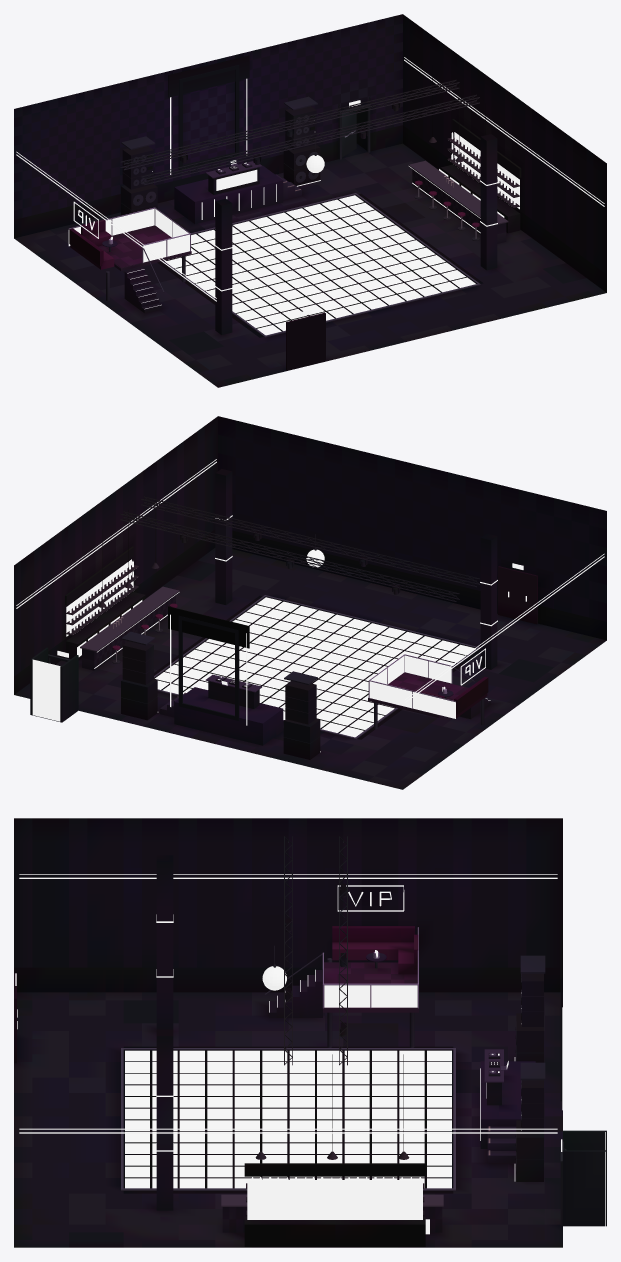
File: balada.glb
3 views of the same model, one above another, from view 1: azimuth 30°, elevation 25°; view 2: azimuth 150°, elevation 25°; view 3: azimuth 270°, elevation 25° (orthographic). The views are drawn at different scales.
Visible parts, largest first — view 1: sala_solido, pista_neon, sala_vidro, sala_neon, sala_luz; view 2: sala_solido, pista_neon, sala_vidro, sala_luz, sala_neon; view 3: sala_solido, pista_neon, sala_luz, sala_neon, sala_vidro.
Part boxes in pixels (left/top/right/bottom): sala_solido: left=14, top=14, right=606, bottom=387; pista_neon: left=164, top=195, right=475, bottom=335; sala_vidro: left=68, top=132, right=515, bottom=262; sala_neon: left=16, top=57, right=604, bottom=309; sala_luz: left=152, top=100, right=519, bottom=316; sala_solido: left=14, top=416, right=606, bottom=789; pista_neon: left=155, top=597, right=475, bottom=737; sala_vidro: left=69, top=561, right=455, bottom=718; sala_luz: left=32, top=549, right=526, bottom=721; sala_neon: left=16, top=459, right=604, bottom=752; sala_solido: left=14, top=818, right=606, bottom=1247; pista_neon: left=125, top=1050, right=451, bottom=1188; sala_luz: left=15, top=966, right=605, bottom=1234; sala_neon: left=19, top=874, right=562, bottom=1181; sala_vidro: left=251, top=950, right=421, bottom=1179.
Bounding box in the file's own units: 22 × 7 × 21.6.
